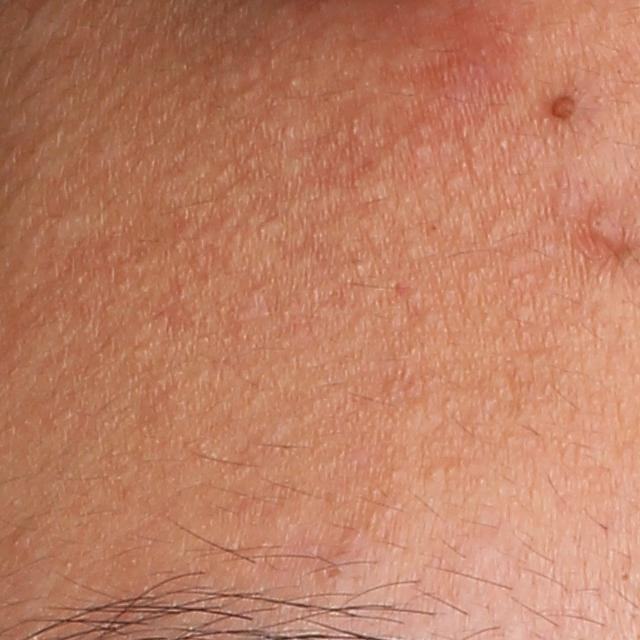comedo: (424, 463, 446, 481), (283, 73, 301, 92), (617, 569, 632, 584)
papule: (545, 89, 588, 132)
